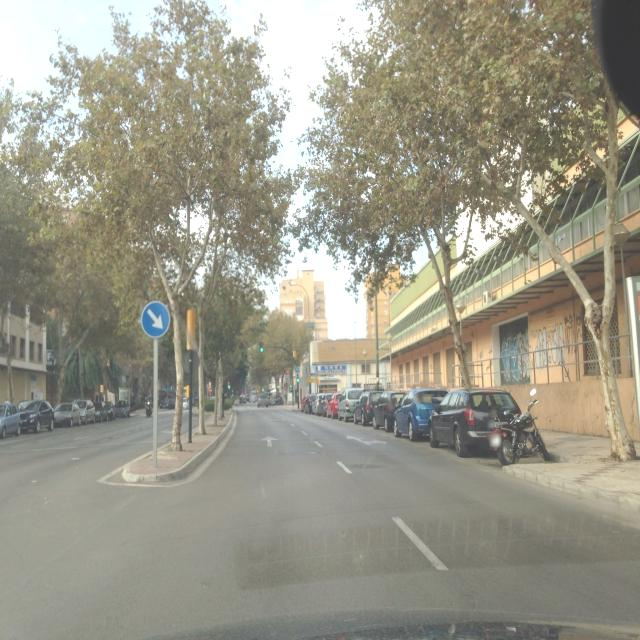bike: (499, 408, 548, 466)
car: (428, 388, 526, 458), (393, 387, 449, 441), (372, 389, 406, 431), (16, 399, 56, 433), (353, 389, 385, 426), (0, 401, 22, 441), (337, 388, 363, 421), (52, 402, 82, 428), (73, 399, 97, 425), (326, 392, 342, 418), (316, 392, 332, 417), (93, 401, 112, 422), (111, 400, 130, 419), (310, 394, 323, 414), (301, 394, 313, 413), (256, 393, 270, 408), (272, 394, 284, 405), (191, 396, 200, 406), (239, 394, 247, 404)
